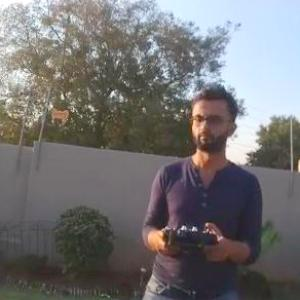follow: (129, 86, 260, 299)
